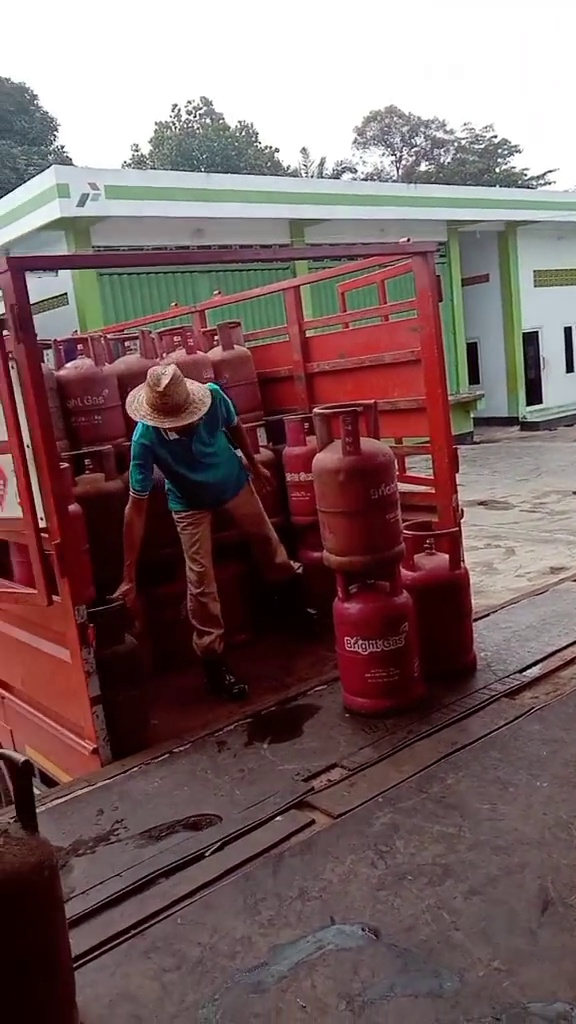bright_gas: (314, 404, 408, 570), (333, 566, 428, 714), (403, 520, 478, 686), (33, 329, 123, 457), (76, 464, 137, 588), (183, 321, 258, 419), (273, 411, 331, 536)
